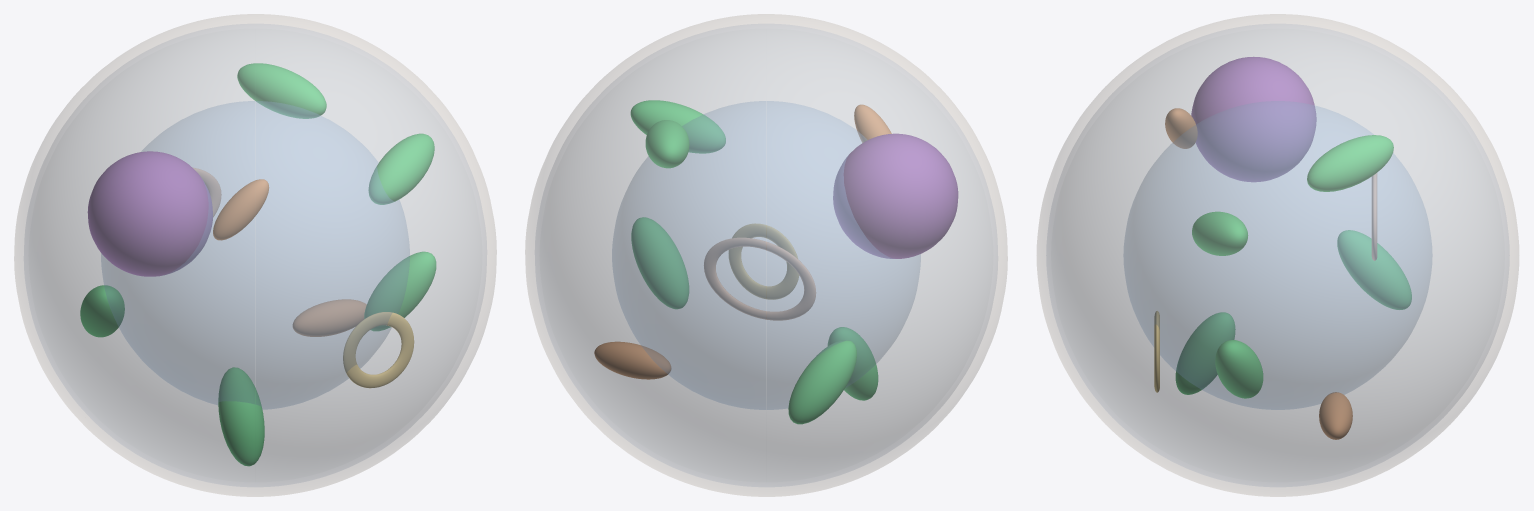
File: plant-cell.glb
3 renders of one model, left to right at view 1: azimuth 30°, elevation 25°; view 2: azimuth 150°, elevation 25°; view 3: azimuth 270°, elevation 25°, orthographic.
Visible parts, largest first — view 1: cellWall, membrane, vacuole, nucleus, chloroplast_2, chloroplast_3, chloroplast_0, chloroplast_1, golgi, mitochondrion, mitochondrion_1, chloroplast_4; view 2: cellWall, membrane, vacuole, nucleus, chloroplast_4, chloroplast_1, endoplasmicReticulum, chloroplast_0, mitochondrion, golgi, chloroplast_3, chloroplast_2 (+1 smaller); view 3: cellWall, membrane, vacuole, nucleus, chloroplast_4, chloroplast_3, chloroplast_2, chloroplast_1, chloroplast_0, mitochondrion, mitochondrion_1.
Boxes of the visible parts, x1=… form: cellWall: x1=14, y1=14, x2=496, y2=496; membrane: x1=24, y1=24, x2=486, y2=486; vacuole: x1=101, y1=101, x2=409, y2=408; nucleus: x1=87, y1=151, x2=212, y2=276; chloroplast_2: x1=218, y1=367, x2=264, y2=466; chloroplast_3: x1=237, y1=63, x2=326, y2=118; chloroplast_0: x1=368, y1=133, x2=434, y2=204; chloroplast_1: x1=364, y1=251, x2=436, y2=330; golgi: x1=343, y1=312, x2=414, y2=388; mitochondrion: x1=293, y1=299, x2=366, y2=336; mitochondrion_1: x1=213, y1=179, x2=268, y2=240; chloroplast_4: x1=80, y1=285, x2=124, y2=337; cellWall: x1=525, y1=14, x2=1007, y2=496; membrane: x1=535, y1=24, x2=997, y2=486; vacuole: x1=612, y1=101, x2=920, y2=409; nucleus: x1=833, y1=133, x2=958, y2=258; chloroplast_4: x1=788, y1=340, x2=856, y2=424; chloroplast_1: x1=631, y1=217, x2=688, y2=308; endoplasmicReticulum: x1=704, y1=238, x2=815, y2=320; chloroplast_0: x1=630, y1=100, x2=725, y2=153; mitochondrion: x1=594, y1=341, x2=671, y2=379; golgi: x1=728, y1=223, x2=798, y2=299; chloroplast_3: x1=645, y1=120, x2=689, y2=168; chloroplast_2: x1=828, y1=327, x2=878, y2=400; cellWall: x1=1037, y1=14, x2=1518, y2=496; membrane: x1=1046, y1=24, x2=1509, y2=486; vacuole: x1=1124, y1=101, x2=1431, y2=409; nucleus: x1=1191, y1=57, x2=1316, y2=181; chloroplast_4: x1=1337, y1=230, x2=1411, y2=309; chloroplast_3: x1=1307, y1=135, x2=1393, y2=191; chloroplast_2: x1=1175, y1=312, x2=1235, y2=394; chloroplast_1: x1=1215, y1=340, x2=1263, y2=398; chloroplast_0: x1=1192, y1=211, x2=1247, y2=255; mitochondrion: x1=1319, y1=392, x2=1352, y2=439; mitochondrion_1: x1=1165, y1=108, x2=1197, y2=148.
Bounding box in the file's own units: 10 × 10 × 10.
